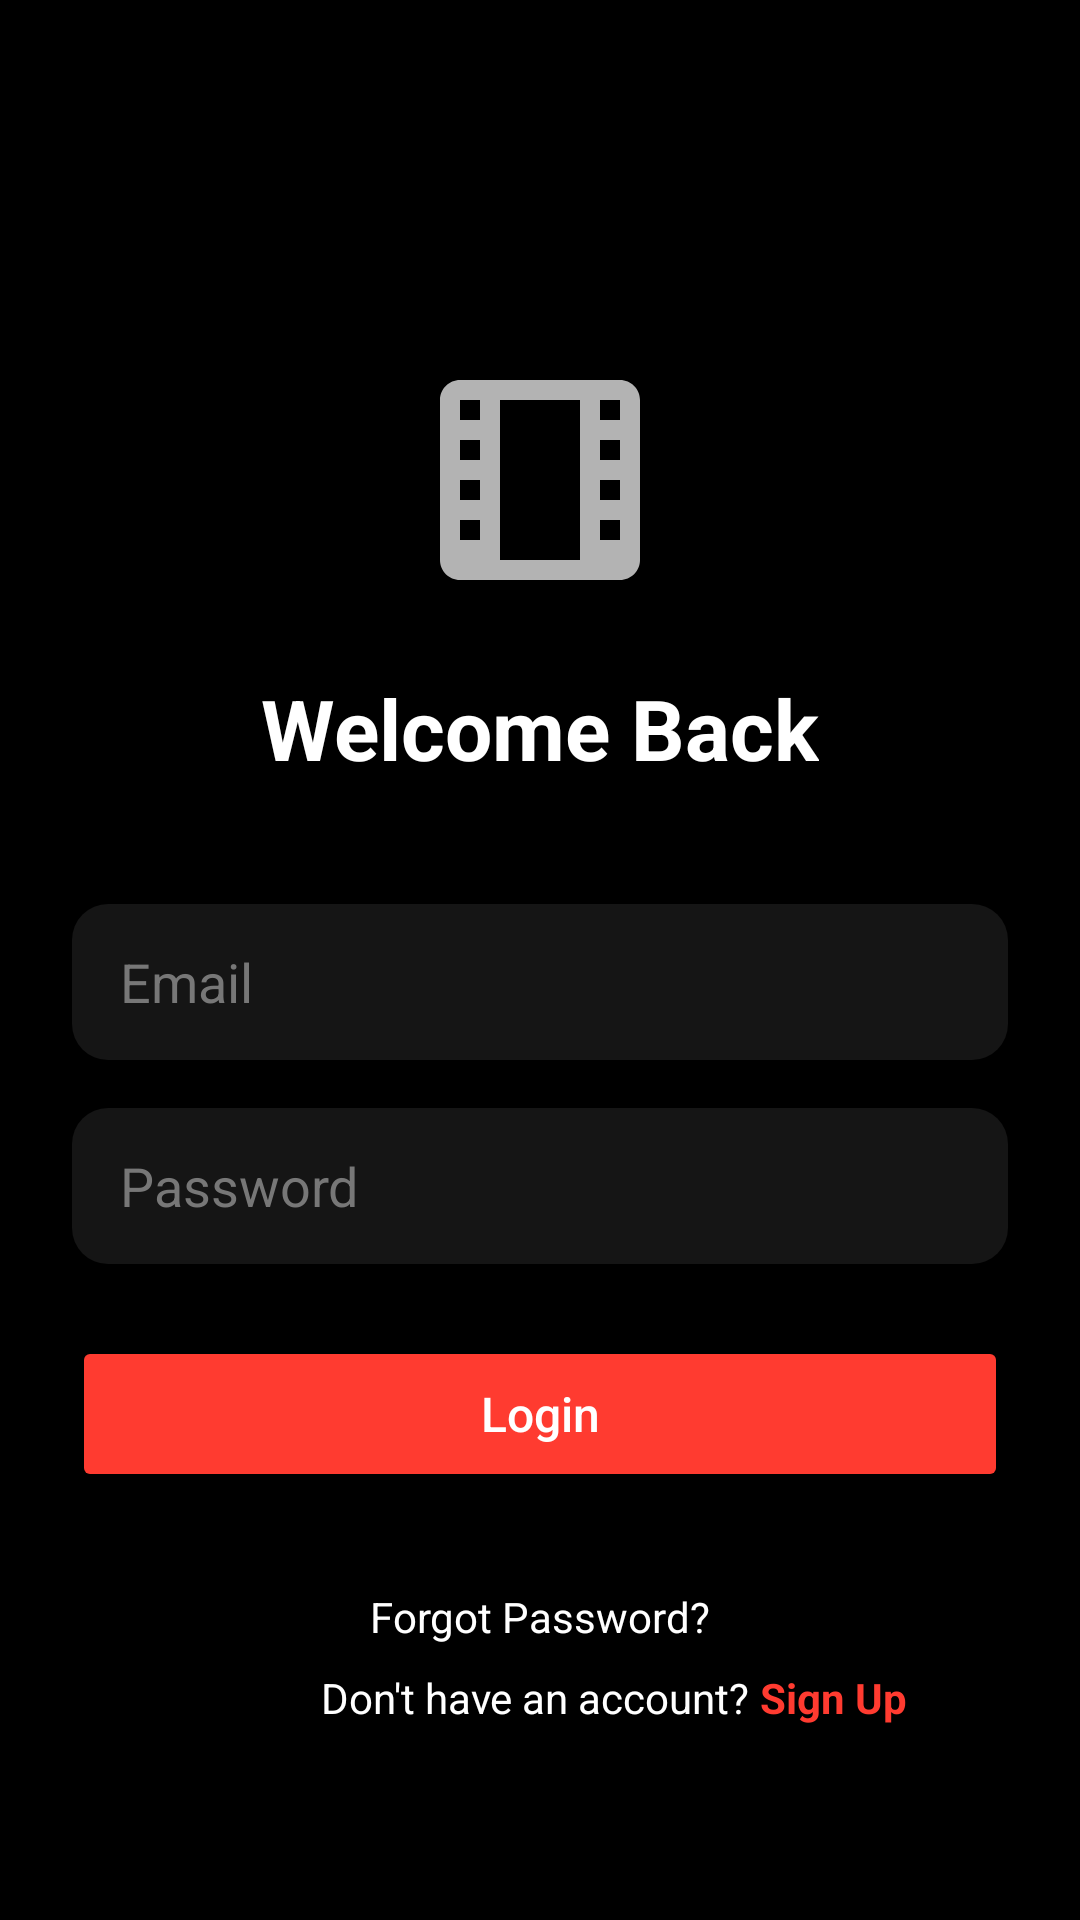

Where to tap for icons on this 1080px×1920px app screen, as (x=x, y=y):
movie: (x=540, y=480)
